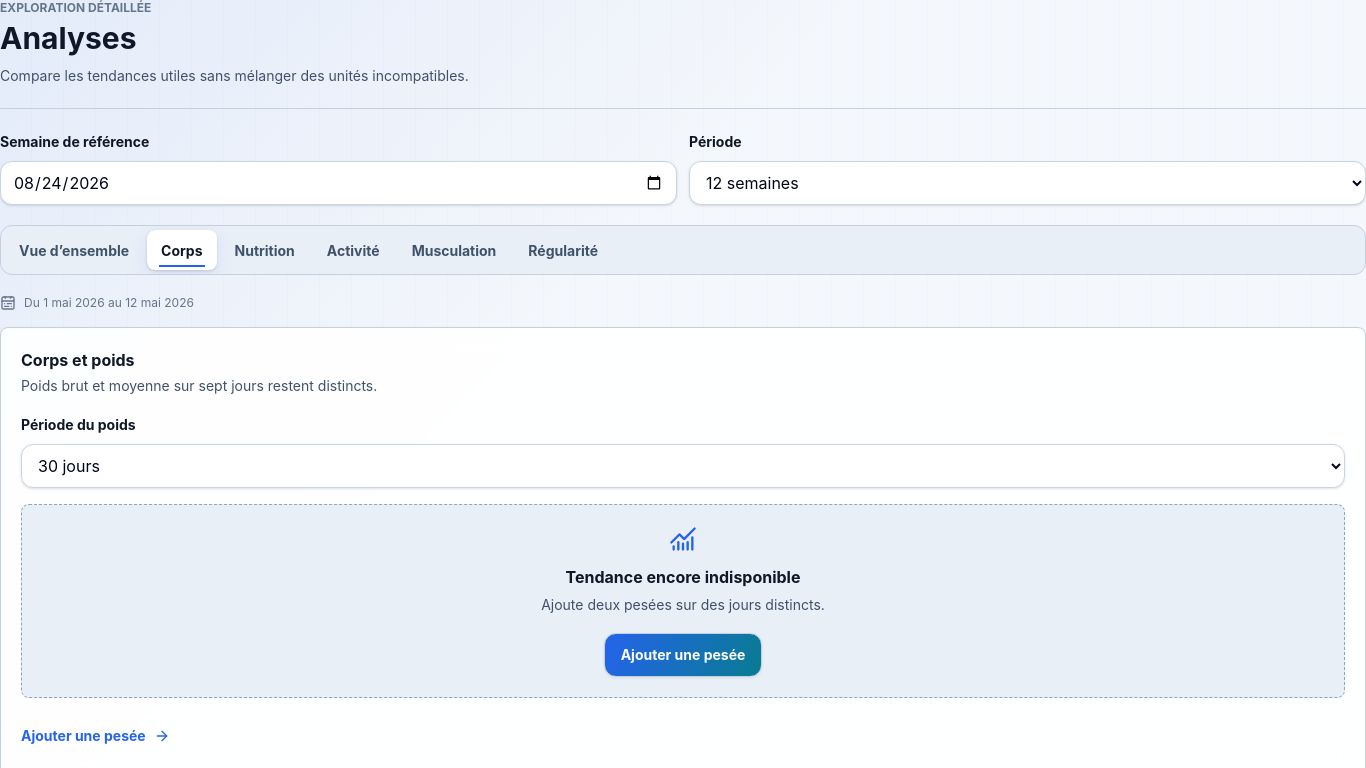
Scenario: conserve aussi la période longue du poids dans une route profonde
The image size is (1366, 768).
Step 1. Select "6 mois" in the dropdown labelled "Période du poids" → [683, 466], box [21, 444, 1345, 488]
(page scrolled)
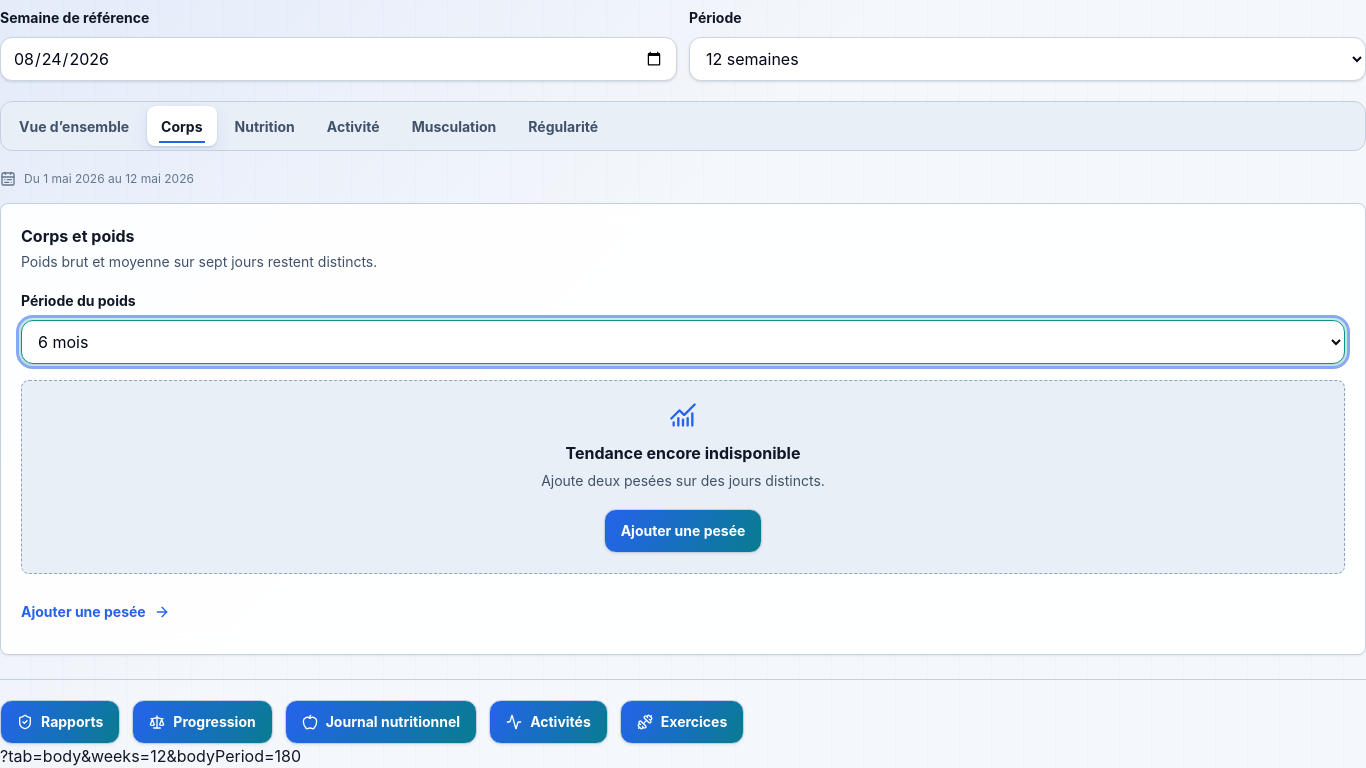
Check: the text named "Adresse courante" reads "?tab=body&weeks=12&bodyPeriod=180", box [0, 746, 301, 766]
